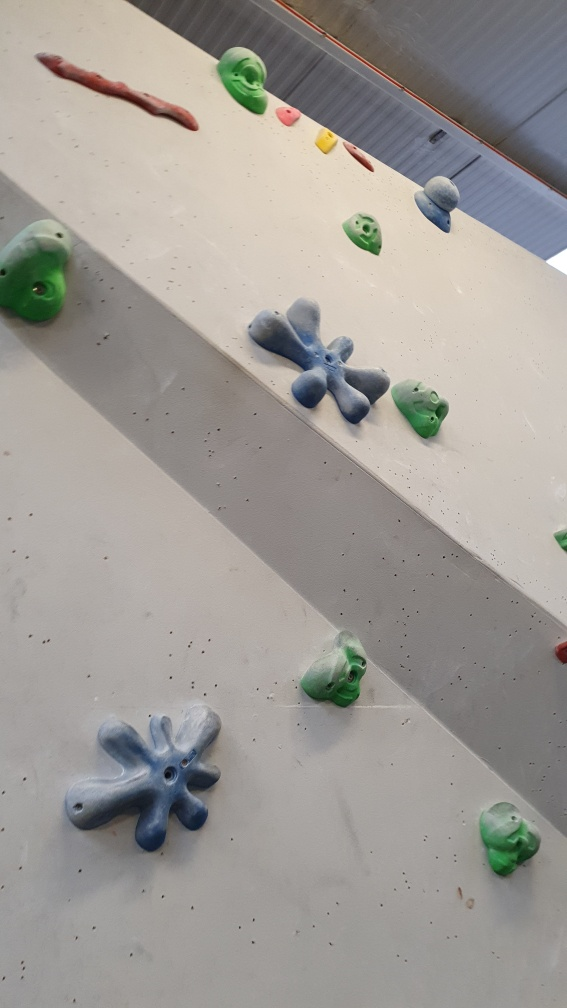Crimp: (343, 138, 375, 175), (276, 100, 303, 127)
Jug: (1, 218, 70, 315), (305, 629, 372, 714), (479, 799, 542, 884), (387, 374, 452, 445), (217, 40, 271, 124), (342, 211, 382, 259)
Octopus Pinch: (64, 704, 222, 851), (248, 291, 390, 425)
Sloper: (414, 174, 462, 236)
